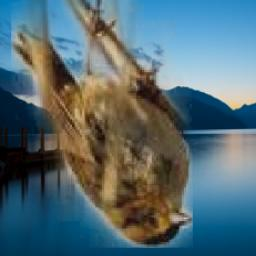Sparrow: (11, 0, 193, 249)
